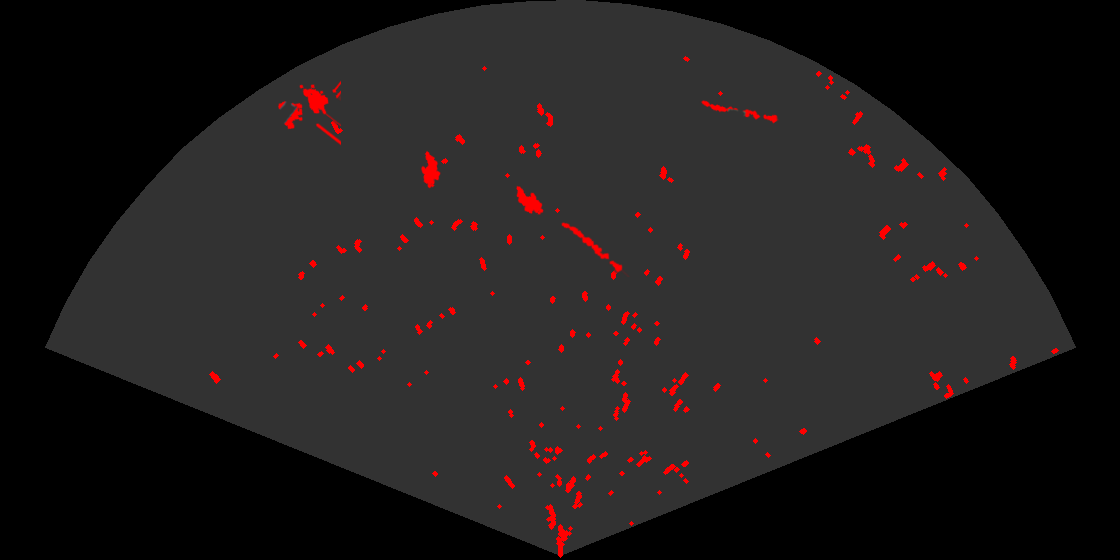AUV: (515, 184, 545, 216), (420, 149, 442, 190)
cage: (276, 79, 341, 147)
chain: (560, 221, 631, 277), (699, 99, 779, 125)
